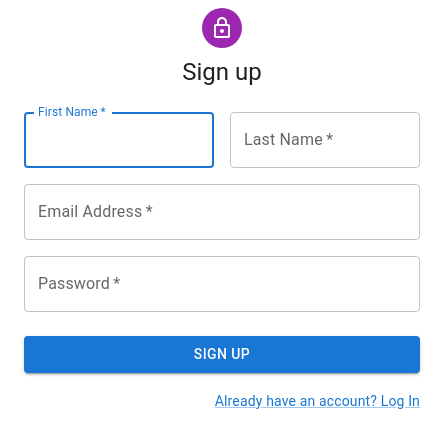
App Component Tests › SignUp Component › shows error when user already exists
Step 1. Type "existing@example.com" into the field labelled "Email Address *" → (222, 212), box [24, 184, 420, 240]
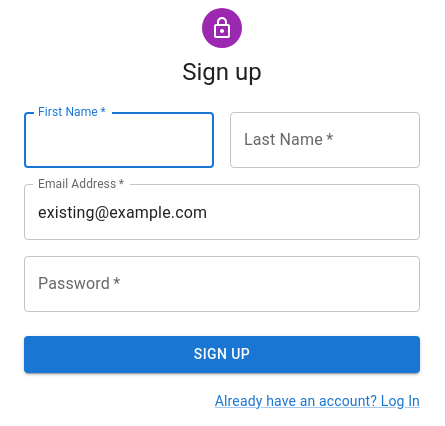
Step 2. Type "password123" into the password field labelled "Password *" → (222, 284), box [24, 256, 420, 312]
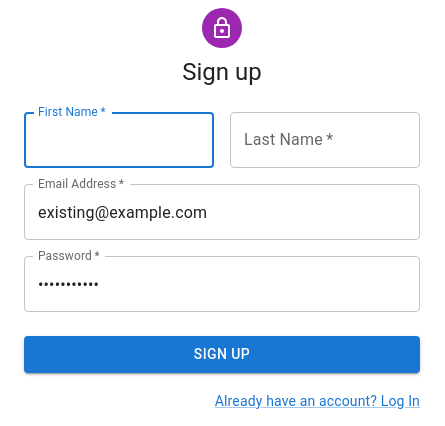
Step 3. Type "John" into the field labelled "First Name *" → (119, 140), box [24, 112, 214, 168]
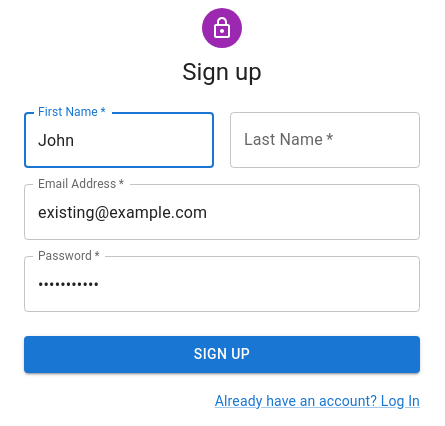
Step 4. Type "Doe" into the field labelled "Last Name *" → (325, 140), box [230, 112, 420, 168]
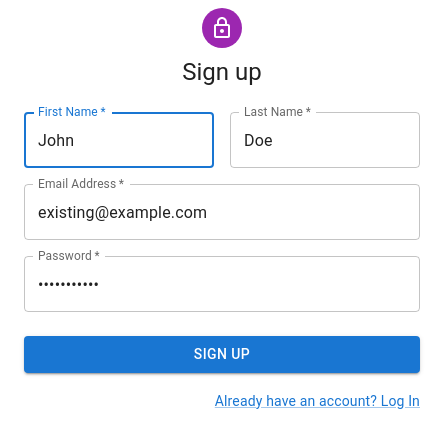
Step 5. Click the button "Sign Up" → (222, 354), box [24, 336, 420, 372]
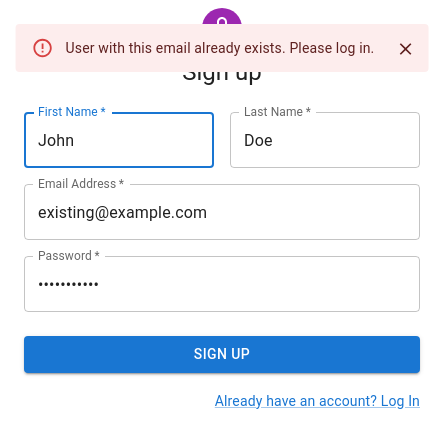
Now the text "User with this email already exists. Please log in." is shown, box [66, 40, 374, 56]
